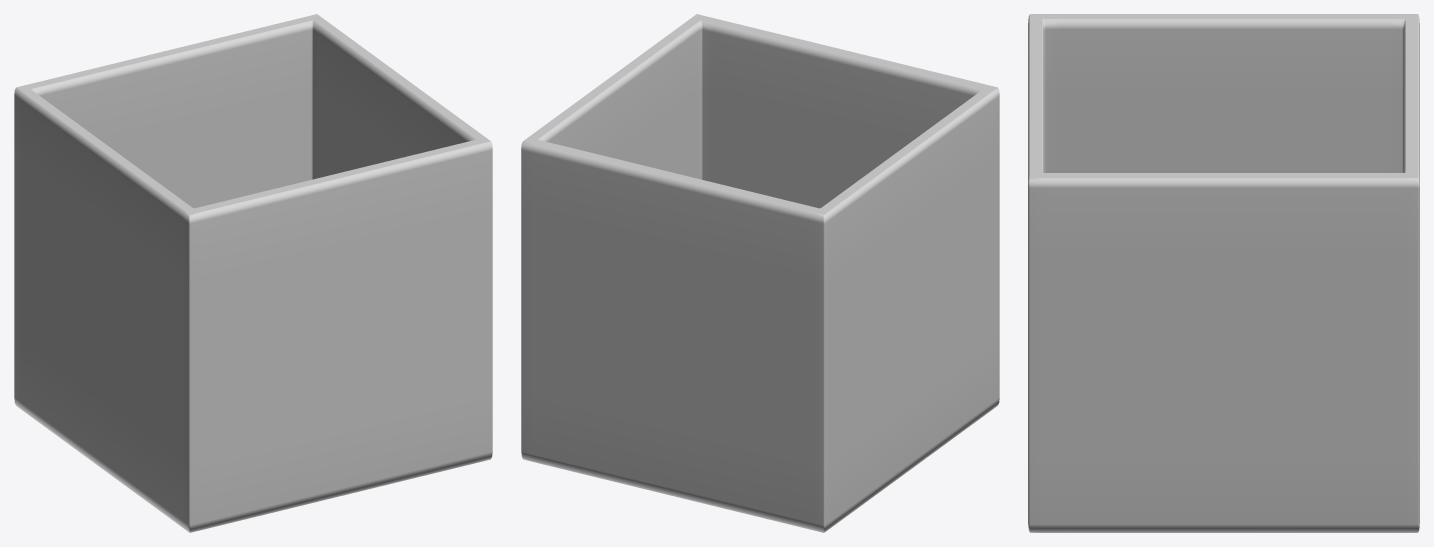
Rendered from ScalableMesh_Ground__16.fbx.
3 renders of one model, left to right at view 1: azimuth 30°, elevation 25°; view 2: azimuth 150°, elevation 25°; view 3: azimuth 270°, elevation 25°, orthographic. The views are drawn at different scales.
Parts seen in each view (by area): view 1: Mat_Tile_Color_03 2; view 2: Mat_Tile_Color_03 2; view 3: Mat_Tile_Color_03 2.
Part boxes in pixels (left/top/right/bottom): Mat_Tile_Color_03 2: left=14, top=14, right=492, bottom=532; Mat_Tile_Color_03 2: left=521, top=14, right=999, bottom=532; Mat_Tile_Color_03 2: left=1028, top=14, right=1419, bottom=532.
Bounding box in the file's own units: 1 × 1 × 1.
1 material, 1 textured.
